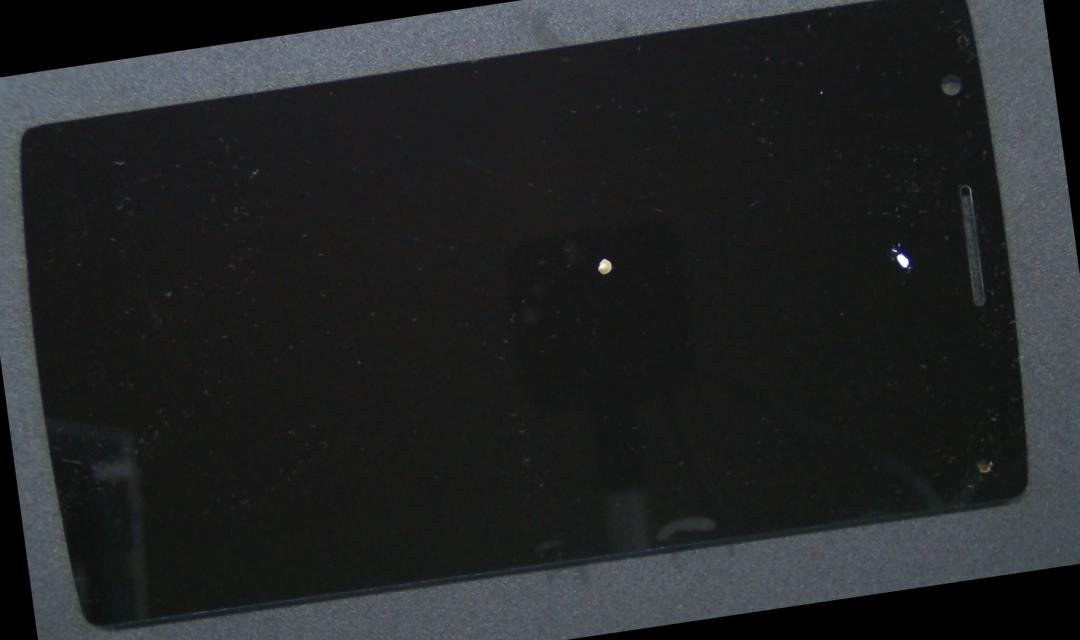Scratches: (585, 241, 625, 289)
